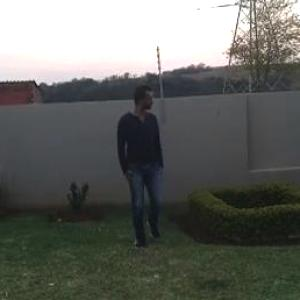follow: (120, 78, 174, 267)
